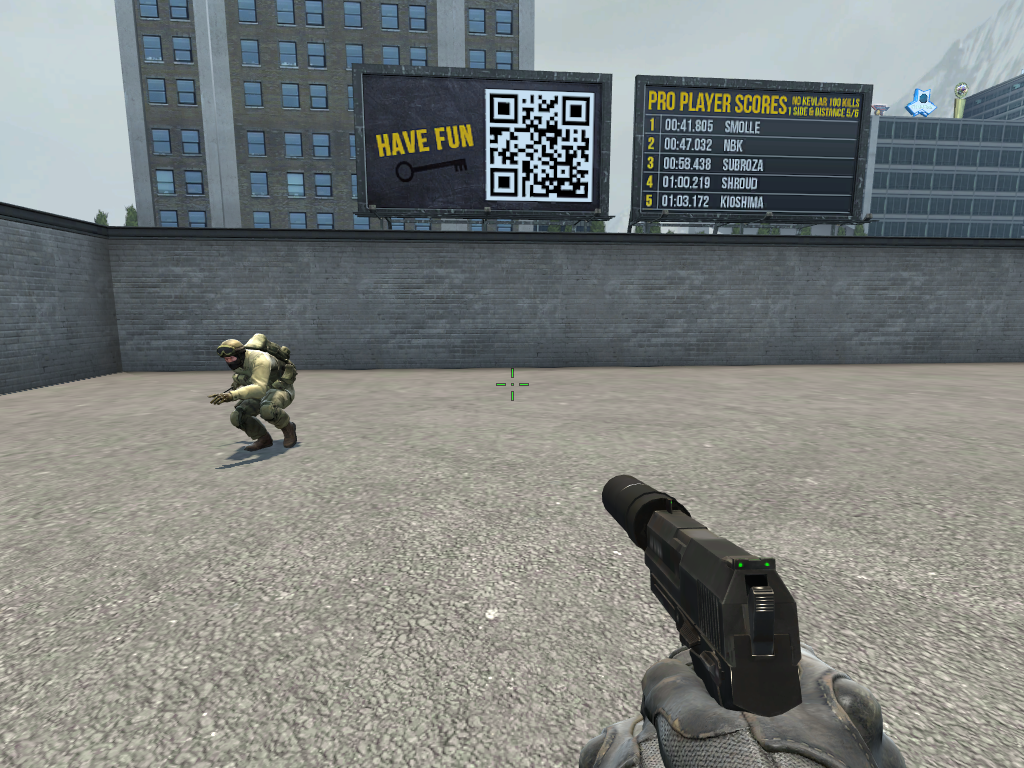ct head: (214, 335, 246, 373)
